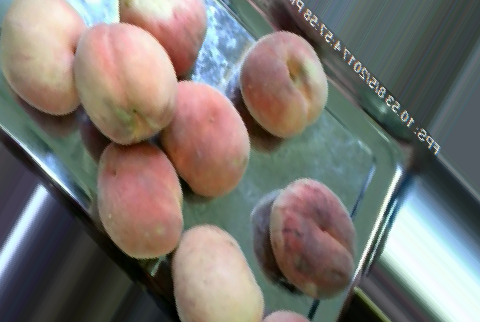Peach: (72, 22, 179, 145), (266, 177, 357, 298), (155, 81, 248, 196), (93, 146, 184, 259), (3, 0, 92, 114), (238, 30, 327, 138), (174, 220, 261, 322), (114, 0, 207, 69)
